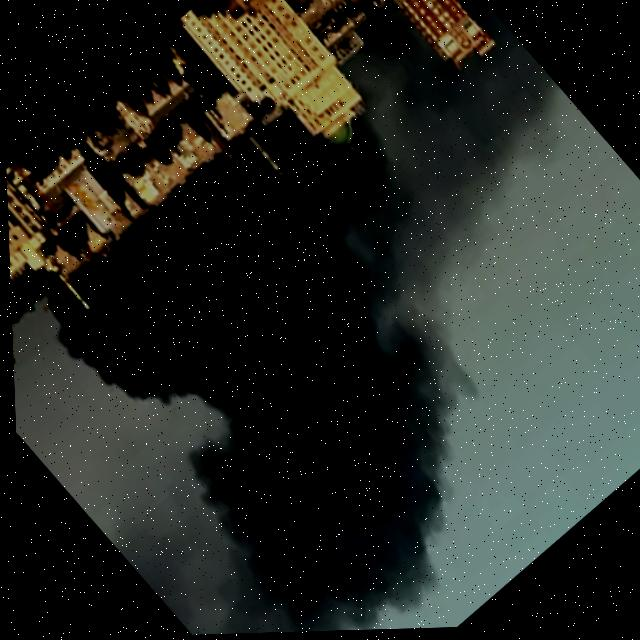Smoke: (12, 47, 640, 640)
